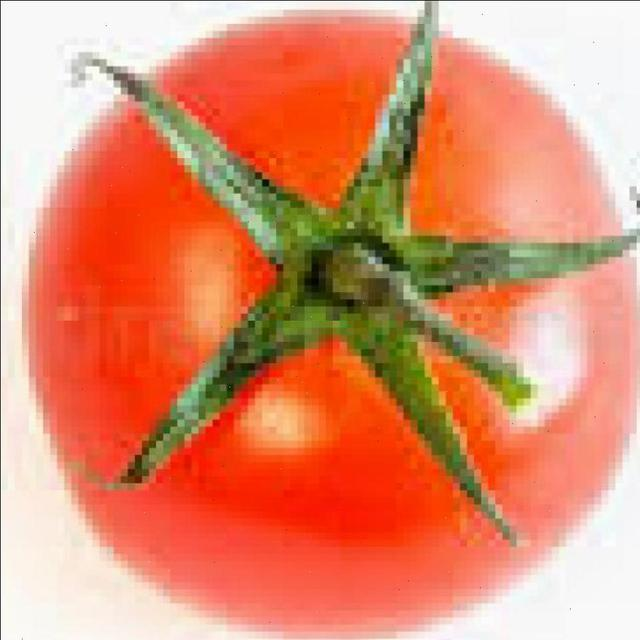Healthy Fruit: (25, 10, 427, 426)
